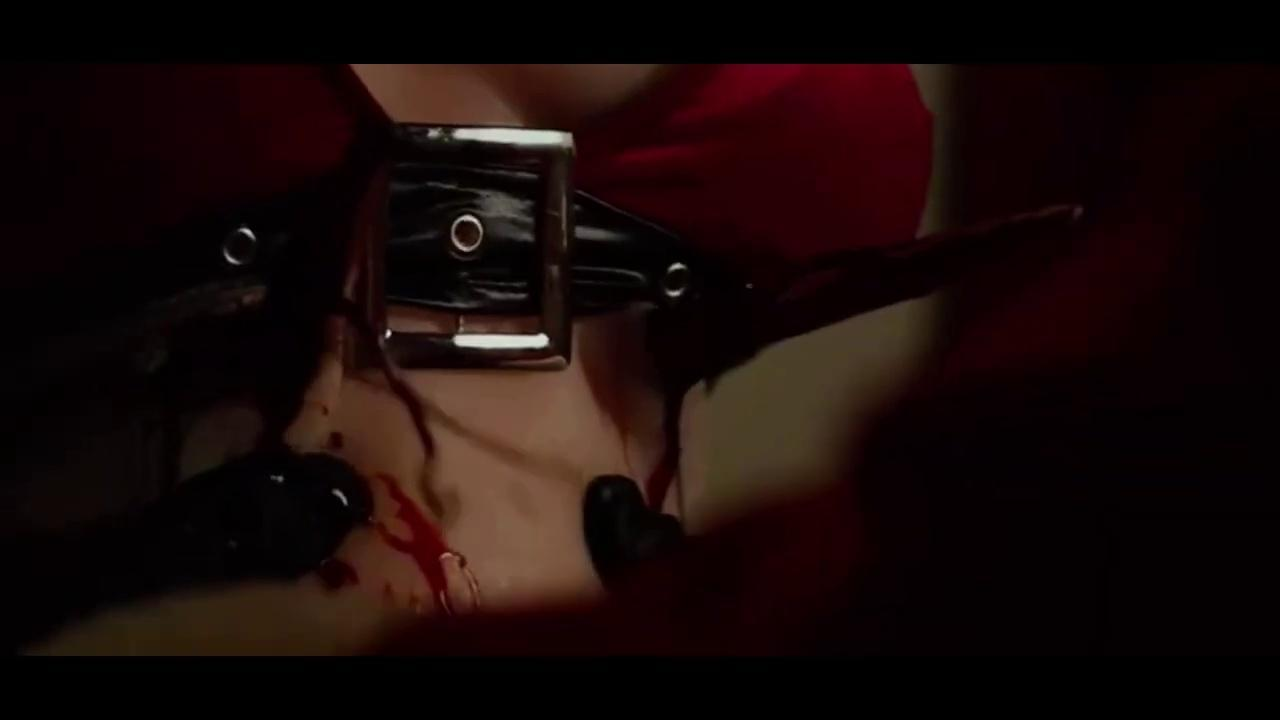Fire: (315, 432, 490, 620), (573, 304, 702, 520)
